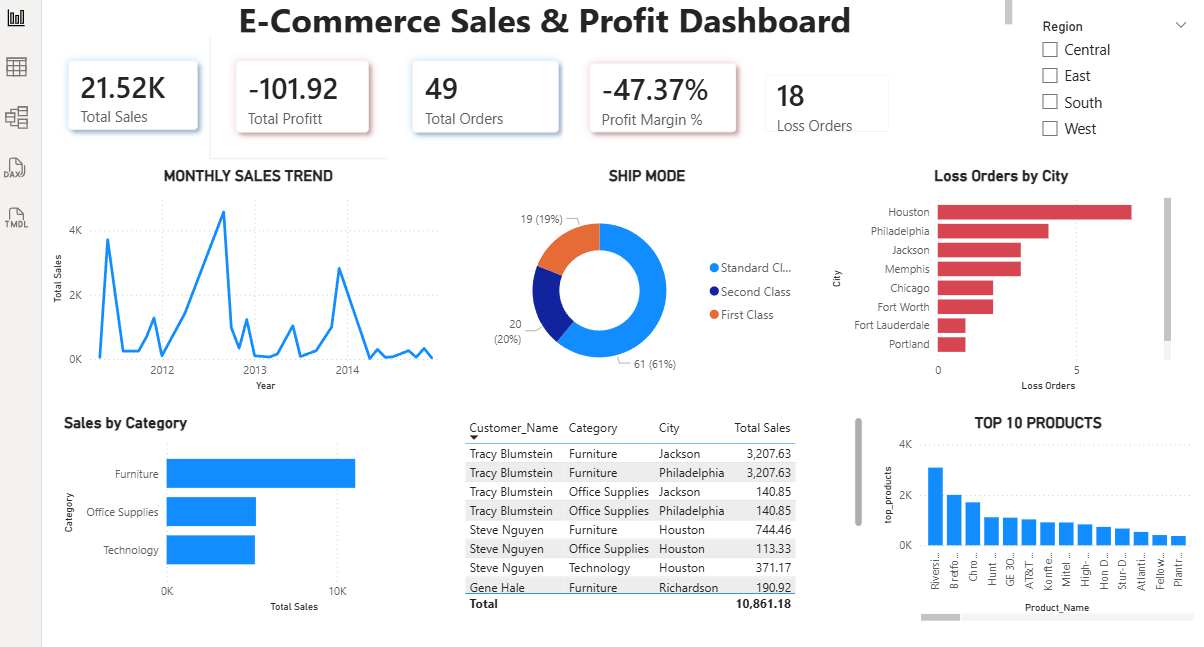

The dashboard page shown, as its layout file describes it:
{"tool":"powerbi","page":{"name":"Page 1","canvas":[1280,720],"ordinal":0},"visuals":[{"type":"cardVisual","fields":{"Data":["measure.Total_sales"]},"box":[0,45.3,200.3,134.5],"z":0},{"type":"cardVisual","fields":{"Data":["measure.Total_profit"]},"box":[183.9,45.3,204.5,137.2],"z":1000},{"type":"cardVisual","fields":{"Data":["measure.Total_order"]},"box":[377.4,45.3,219.6,137.2],"z":2000},{"type":"cardVisual","fields":{"Data":["measure.profit % margin"]},"box":[572.2,48,219.6,134.5],"z":3000},{"type":"lineChart","title":"MONTHLY SALES  TREND","fields":{"Y":["measure.Total_sales"],"Category":["sales.Order_Date.Variation.Date Hierarchy.Year","sales.Order_Date.Variation.Date Hierarchy.Month"]},"box":[6.9,190.7,439.1,251.1],"z":4000},{"type":"barChart","title":"Sales  by Category","fields":{"Y":["measure.Total_sales"],"Category":["product.Category"]},"box":[19.2,461.1,413,223.7],"z":5000},{"type":"donutChart","title":"SHIP MODE","fields":{"Category":["sales.Ship_Mode"],"Y":["CountNonNull(sales.Ship_Mode)"]},"box":[487.1,190.7,354,251.1],"z":6000},{"type":"barChart","fields":{"Y":["measure.Loss_orders"],"Category":["customers_details.City"]},"box":[861.8,190.7,382.8,251.1],"z":7000},{"type":"columnChart","title":"TOP 10  PRODUCTS","fields":{"Y":["measure.top_products"],"Category":["product.Product_Name"]},"box":[918,461.1,351.3,233.3],"z":8000},{"type":"tableEx","fields":{"Values":["customers_details.Customer_Name","product.Category","customers_details.City","measure.Total_sales"]},"box":[458.3,461.1,447.3,223.7],"z":9000},{"type":"cardVisual","title":"LOSS orders","fields":{"Data":["measure.Loss_orders"]},"box":[776.7,72.7,170.2,97.4],"z":10000},{"type":"slicer","fields":{"Values":["product.Region"]},"box":[1085.4,23.3,183.9,146.8],"z":11000},{"type":"textbox","box":[41.2,0,1029.2,48],"z":12000}]}

Visuals, with their boxes on the page's 1280x720 design canvas (x1, y1, x2, y2). These are canvas units, not pixel positions in the 1204x647 screenshot, which may show the page scaled, cropped or inside an application window:
cardVisual - measure.Total_sales: x1=0 y1=45 x2=200 y2=180
cardVisual - measure.Total_profit: x1=184 y1=45 x2=388 y2=182
cardVisual - measure.Total_order: x1=377 y1=45 x2=597 y2=182
cardVisual - measure.profit % margin: x1=572 y1=48 x2=792 y2=182
"MONTHLY SALES  TREND" lineChart: x1=7 y1=191 x2=446 y2=442
"Sales  by Category" barChart: x1=19 y1=461 x2=432 y2=685
"SHIP MODE" donutChart: x1=487 y1=191 x2=841 y2=442
barChart - measure.Loss_orders x customers_details.City: x1=862 y1=191 x2=1245 y2=442
"TOP 10  PRODUCTS" columnChart: x1=918 y1=461 x2=1269 y2=694
tableEx - customers_details.Customer_Name x product.Category: x1=458 y1=461 x2=906 y2=685
"LOSS orders" cardVisual: x1=777 y1=73 x2=947 y2=170
slicer - product.Region: x1=1085 y1=23 x2=1269 y2=170
textbox: x1=41 y1=0 x2=1070 y2=48
